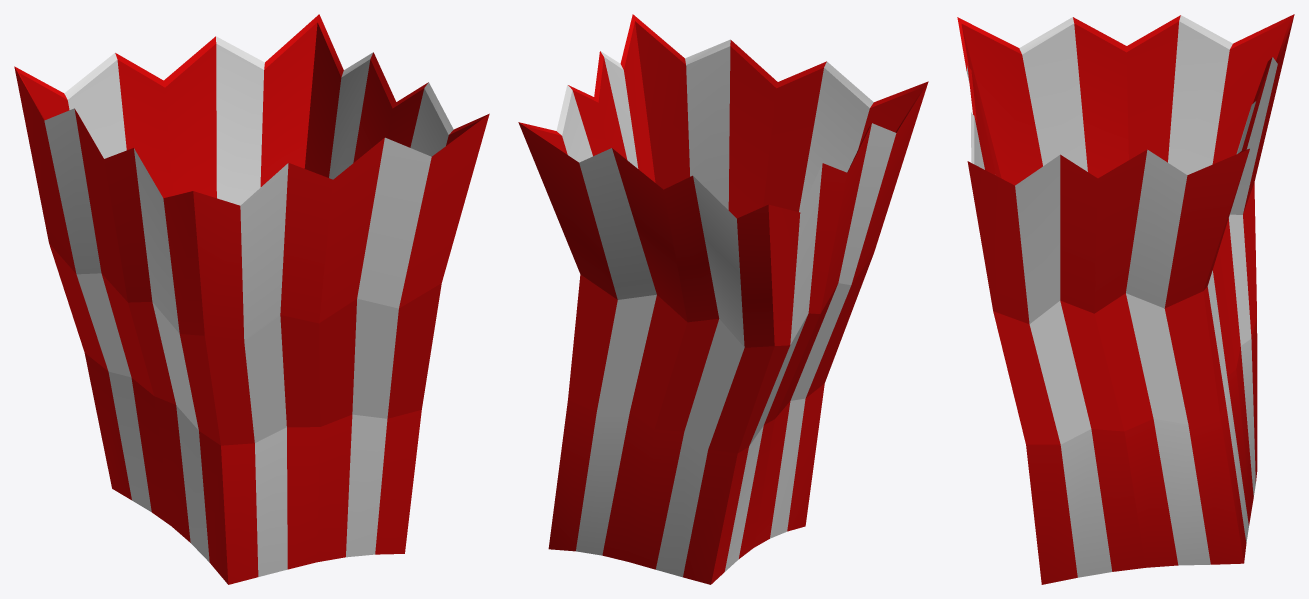
File: WW_PopCornBoxCrushed_Prop_01.fbx
The picture shows the model from 3 angles, left to right: view 1: azimuth 30°, elevation 25°; view 2: azimuth 150°, elevation 25°; view 3: azimuth 270°, elevation 25°; orthographic projection. The views are drawn at different scales.
Visible parts, largest first — view 1: WW_PopCornBoxCrushed_Prop_01; view 2: WW_PopCornBoxCrushed_Prop_01; view 3: WW_PopCornBoxCrushed_Prop_01.
Part boxes in pixels (box(x1,y1,x2,y2)): WW_PopCornBoxCrushed_Prop_01: box(14, 14, 489, 584); WW_PopCornBoxCrushed_Prop_01: box(518, 14, 928, 584); WW_PopCornBoxCrushed_Prop_01: box(957, 14, 1294, 584).
Bounding box in the file's own units: 18.86 × 26.59 × 18.21.
